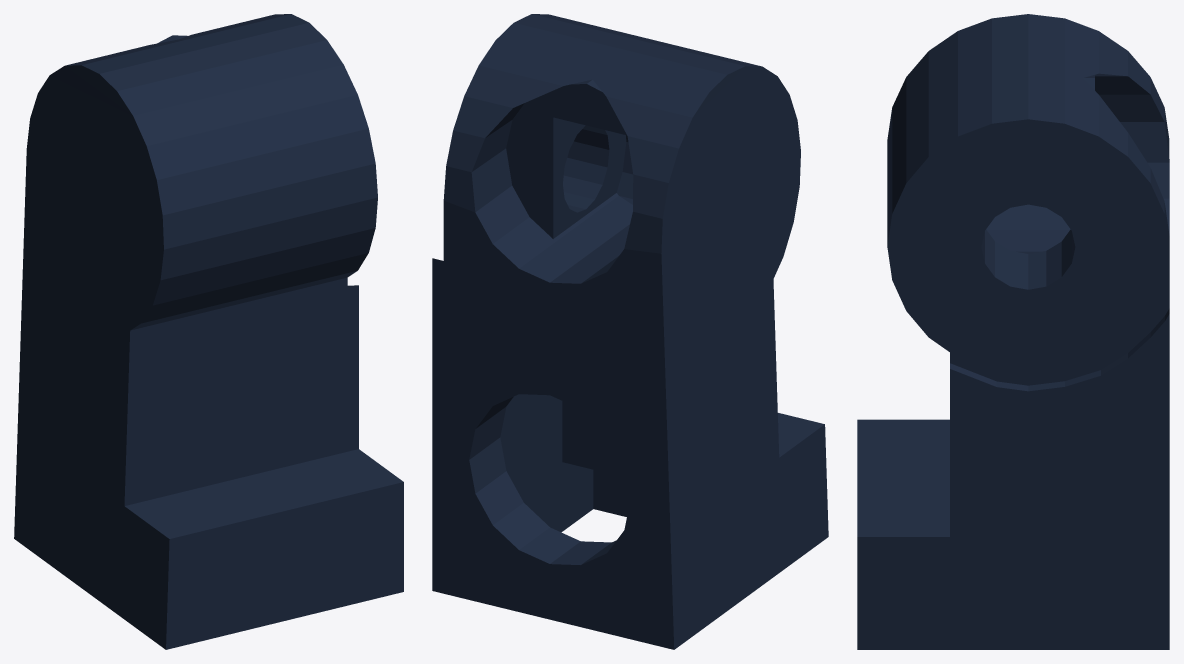
The picture shows the model from 3 angles, left to right: view 1: azimuth 30°, elevation 25°; view 2: azimuth 150°, elevation 25°; view 3: azimuth 270°, elevation 25°; orthographic projection. The views are drawn at different scales.
Visible parts, largest first — view 1: Part.1; view 2: Part.1; view 3: Part.1.
Boxes of the visible parts, x1,y1,x2,y2 form: Part.1: (14, 14, 403, 649); Part.1: (432, 14, 828, 649); Part.1: (857, 14, 1169, 649).
Size of the model in its own units: 7.2 by 14.78 by 7.96.
